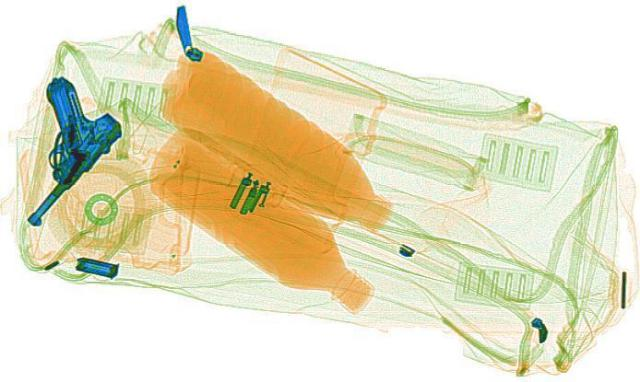Gun: (16, 76, 130, 225)
